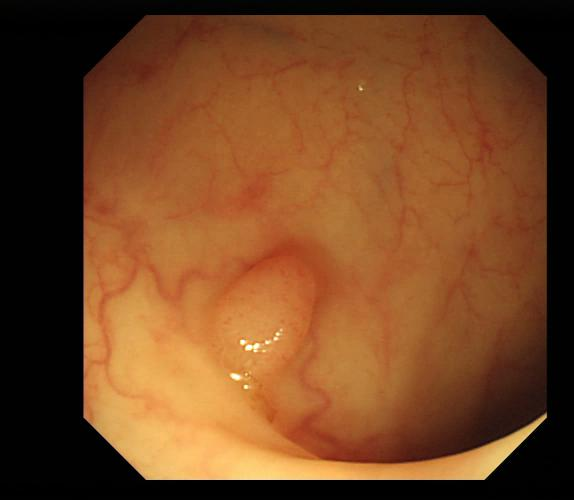polyp: (204, 250, 318, 381)
